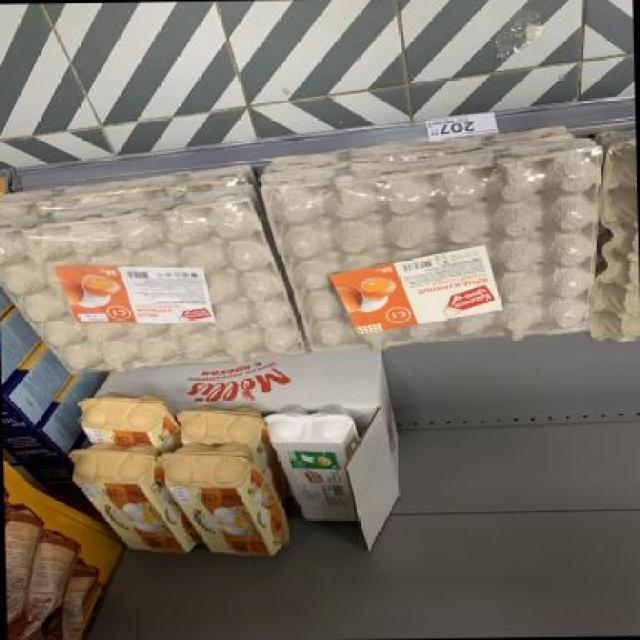egg: (165, 444, 288, 562), (74, 445, 191, 555), (267, 403, 359, 522), (83, 396, 174, 446), (180, 405, 262, 446)
